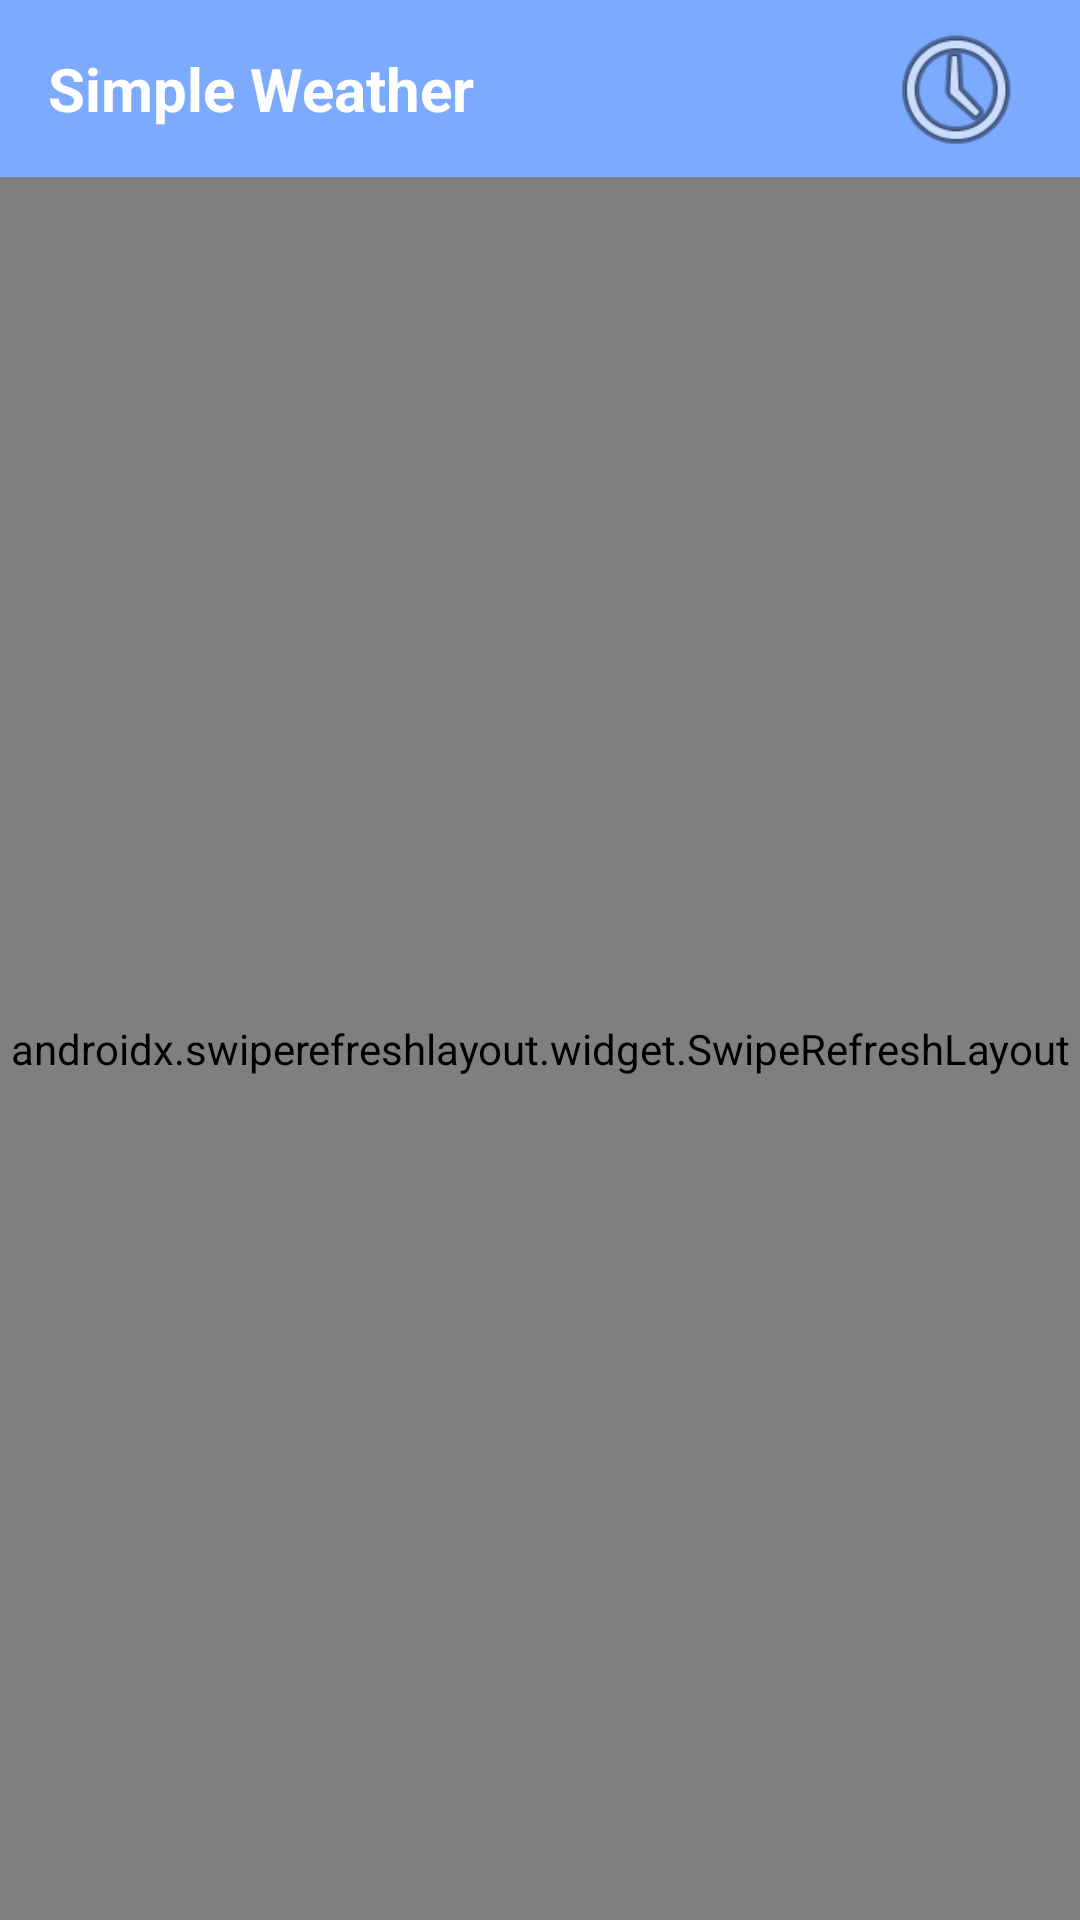

Point at icon controls on the screen. Image size 1080 × 1920, points as point (x, y).
recent history: point (956, 89)
